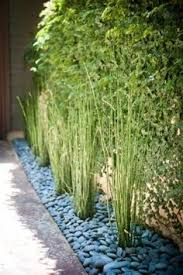bamboo: (40, 1, 183, 194), (113, 55, 140, 246), (75, 78, 98, 214)
